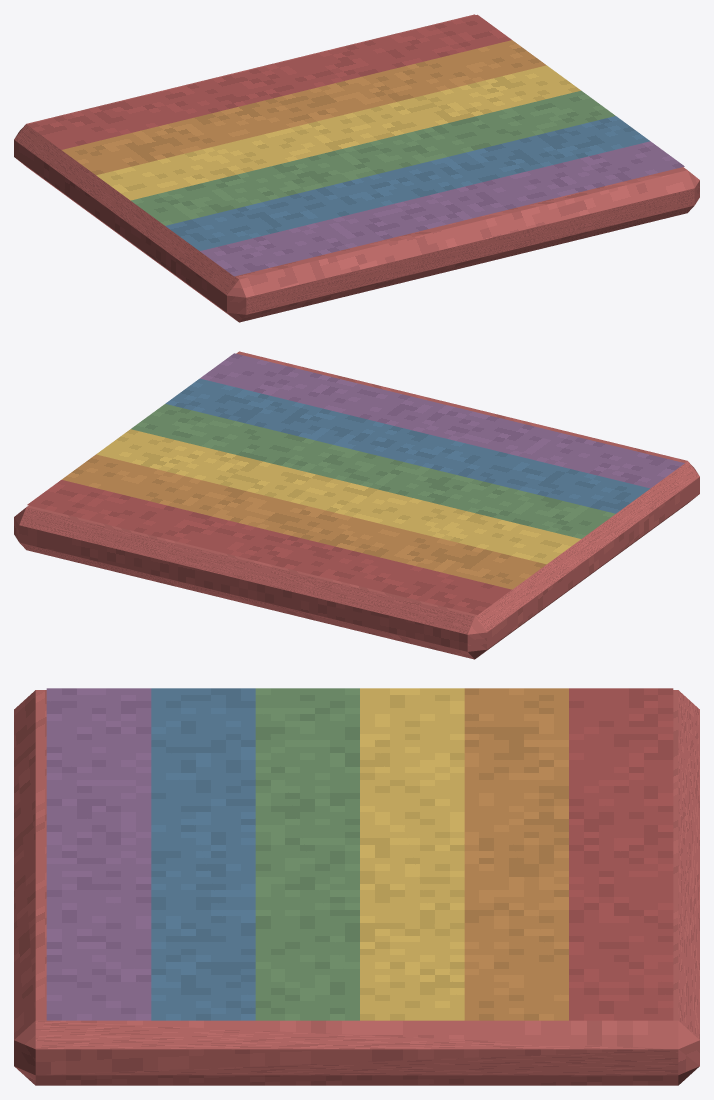
The model's file is pride_flag.glb.
The picture shows the model from 3 angles, top to bottom: view 1: azimuth 30°, elevation 25°; view 2: azimuth 150°, elevation 25°; view 3: azimuth 270°, elevation 25°; orthographic projection. The views are drawn at different scales.
Parts seen in each view (by area): view 1: block_rainbow stripe (×6), block_folded textile; view 2: block_rainbow stripe (×6), block_folded textile; view 3: block_rainbow stripe (×6), block_folded textile.
Boxes of the visible parts, box(x1,y1,x2,y2) form: block_rainbow stripe (×6): box(27, 14, 684, 276); block_folded textile: box(14, 14, 699, 322); block_rainbow stripe (×6): box(27, 353, 684, 614); block_folded textile: box(14, 351, 699, 659); block_rainbow stripe (×6): box(46, 688, 673, 1020); block_folded textile: box(14, 690, 699, 1085).
Size of the model in its own units: 0.3906 by 0.0344 by 0.3247.
Materials: 1 (1 with a texture image).
